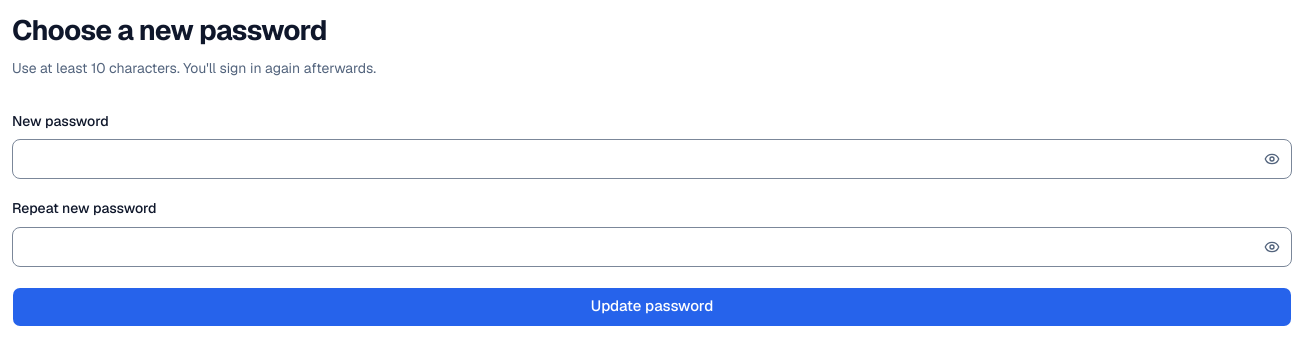
it: token pages › reset: strips the token from the URL and updates the password
The width and height of the screenshot is (1304, 343).
Type "another long passphrase" into the password field labelled "New password" at (652, 159), box [12,139,1292,179]
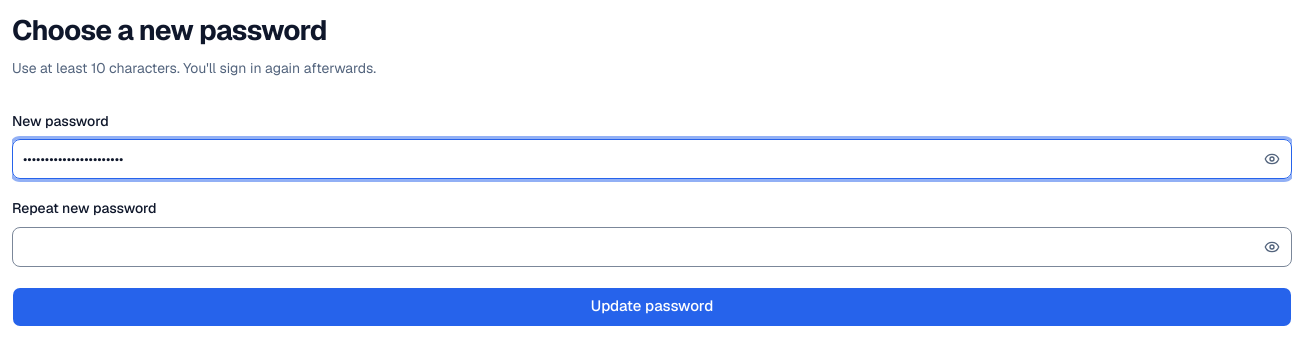
Type "another long passphrase" into the password field labelled "Repeat new password" at (652, 247), box [12,227,1292,267]
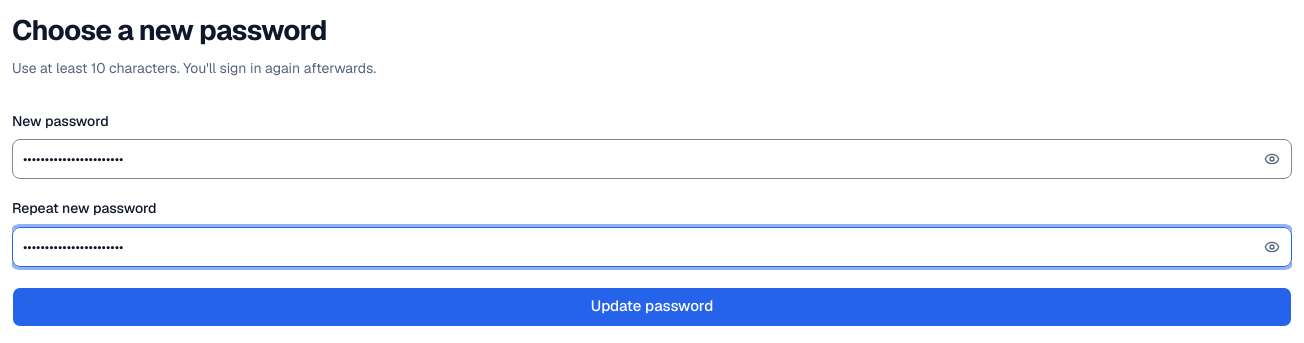
Click the button "Update password" at (652, 307), box [12,287,1292,327]
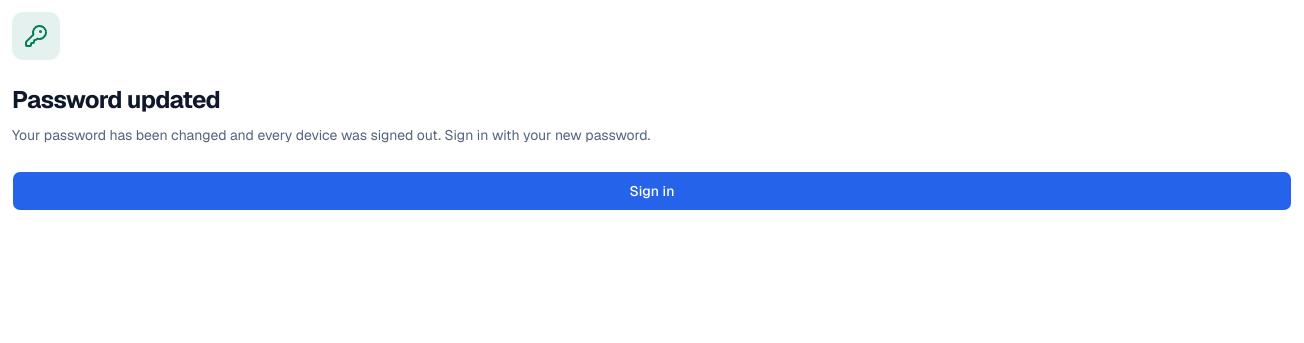
Expected: the heading "Password updated" is shown, [12,84,220,115]
